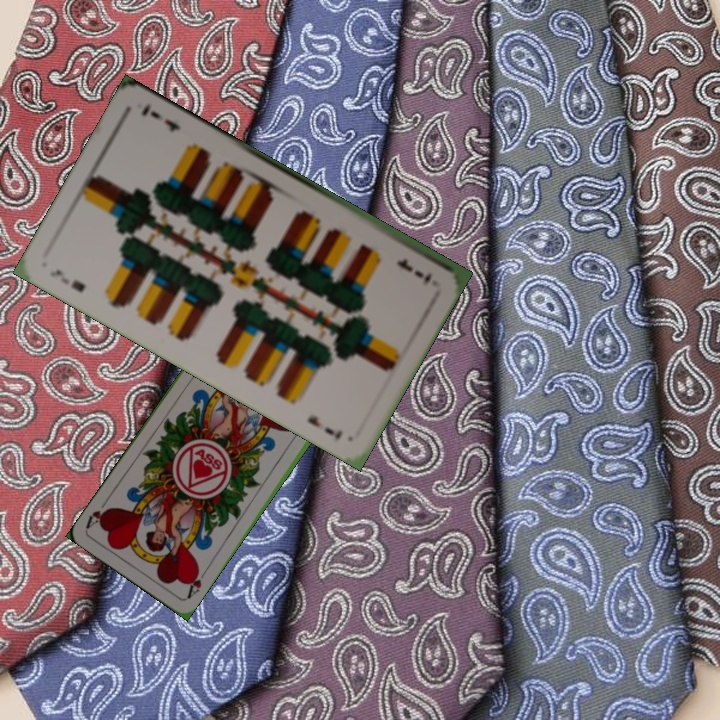E7: (393, 254, 435, 285), (46, 265, 88, 295)
HA: (182, 565, 210, 602)
